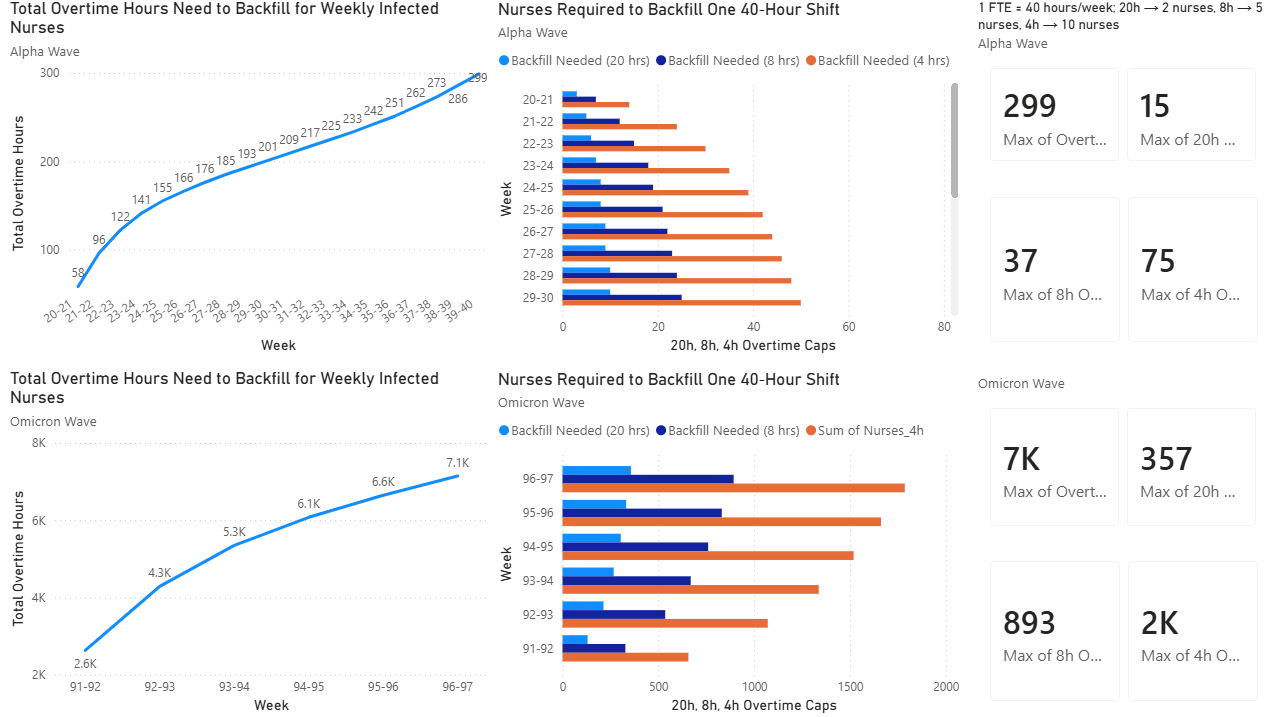

The dashboard page shown, as its layout file describes it:
{"tool":"powerbi","page":{"name":"orkforce Burden","canvas":[1280,720],"ordinal":3},"visuals":[{"type":"lineChart","title":"Total Overtime Hours Need to Backfill for Weekly Infected Nurses","fields":{"Category":["overtime_alpha.Week"],"Y":["Sum(overtime_alpha.Total_Overtime_Hours)"]},"box":[10.1,0,487.5,360.2],"z":0},{"type":"lineChart","title":"Total Overtime Hours Need to Backfill for Weekly Infected Nurses","fields":{"Category":["overtime_omicron.Week"],"Y":["Sum(overtime_omicron.Total_Overtime_Hours)"]},"box":[10.1,370.3,487.5,350.2],"z":1},{"type":"clusteredBarChart","title":"Nurses Required to Backfill One 40‑Hour Shift","fields":{"Category":["overtime_alpha.Week"],"Y":["Sum(overtime_alpha.Nurses_20h)","Sum(overtime_alpha.Nurses_8h)","Sum(overtime_alpha.Nurses_4h)"]},"box":[497.6,0,470.8,360.2],"z":2},{"type":"clusteredBarChart","title":"Nurses Required to Backfill One 40‑Hour Shift","fields":{"Category":["overtime_omicron.Week"],"Y":["Sum(overtime_omicron.Nurses_20h)","Sum(overtime_omicron.Nurses_8h)","Sum(overtime_omicron.Nurses_4h)"]},"box":[497.6,370.3,470.8,350.2],"z":3},{"type":"cardVisual","title":"1 FTE = 40 hours/week; 20h → 2 nurses,             8h → 5 nurses, 4h → 10 nurses","fields":{"Data":["Max(overtime_alpha.Total_Overtime_Hours)","Max(overtime_alpha.Nurses_20h)"]},"box":[978.4,0,301.6,180.9],"z":4},{"type":"cardVisual","fields":{"Data":["Max(overtime_alpha.Nurses_8h)","Max(overtime_alpha.Nurses_4h)"]},"box":[978,181,302,179],"z":5},{"type":"cardVisual","fields":{"Data":["Max(overtime_omicron.Total_Overtime_Hours)","Max(overtime_omicron.Nurses_20h)"]},"box":[978.4,370.3,301.6,175.9],"z":6},{"type":"cardVisual","fields":{"Data":["Max(overtime_omicron.Nurses_8h)","Max(overtime_omicron.Nurses_4h)"]},"box":[978,546,302,174],"z":7}]}

Visuals, with their boxes in screenshot pixels (x1, y1, x2, y2), scaled from the page's 1280x720 canvas onto the 1266x717 screenshot:
"Total Overtime Hours Need to Backfill for Weekly Infected Nurses" lineChart: crop(10, 0, 492, 359)
"Total Overtime Hours Need to Backfill for Weekly Infected Nurses" lineChart: crop(10, 369, 492, 716)
"Nurses Required to Backfill One 40‑Hour Shift" clusteredBarChart: crop(492, 0, 958, 359)
"Nurses Required to Backfill One 40‑Hour Shift" clusteredBarChart: crop(492, 369, 958, 716)
"1 FTE = 40 hours/week; 20h → 2 nurses,             8h → 5 nurses, 4h → 10 nurses" cardVisual: crop(968, 0, 1265, 180)
cardVisual - Max(overtime_alpha.Nurses_8h) x Max(overtime_alpha.Nurses_4h): crop(967, 180, 1265, 358)
cardVisual - Max(overtime_omicron.Total_Overtime_Hours) x Max(overtime_omicron.Nurses_20h): crop(968, 369, 1265, 544)
cardVisual - Max(overtime_omicron.Nurses_8h) x Max(overtime_omicron.Nurses_4h): crop(967, 544, 1265, 716)
